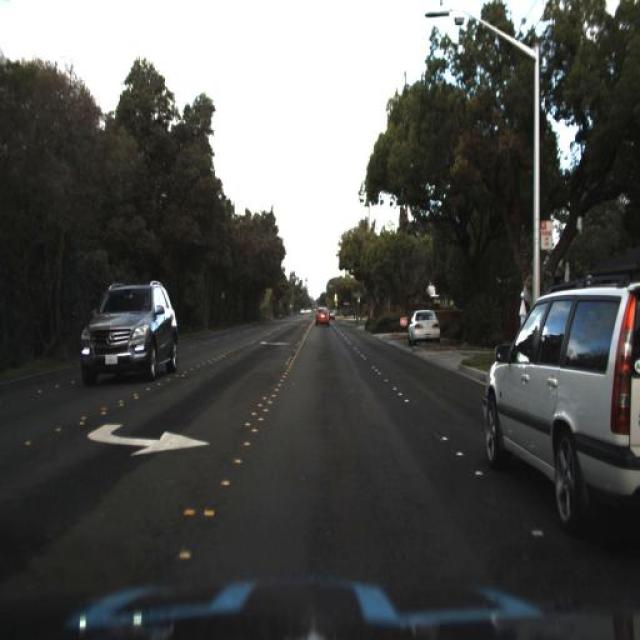car: (476, 250, 640, 546), (78, 278, 178, 388), (405, 300, 446, 350), (312, 298, 332, 328)
